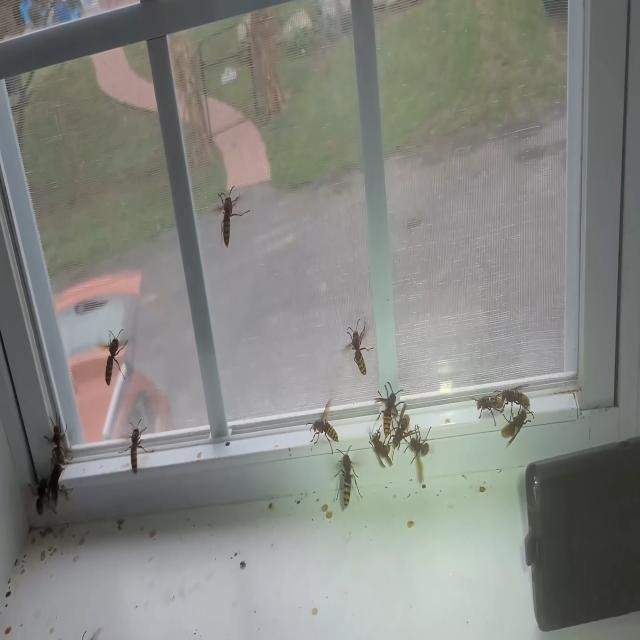Hornets: (216, 184, 250, 250), (332, 444, 363, 510), (118, 419, 154, 475), (342, 317, 373, 377), (376, 378, 404, 438), (498, 404, 534, 450), (46, 413, 74, 469), (103, 328, 129, 388), (307, 398, 338, 448), (494, 382, 534, 419), (404, 424, 434, 471), (26, 472, 55, 519), (388, 400, 414, 452), (471, 391, 506, 425), (368, 424, 393, 469)
